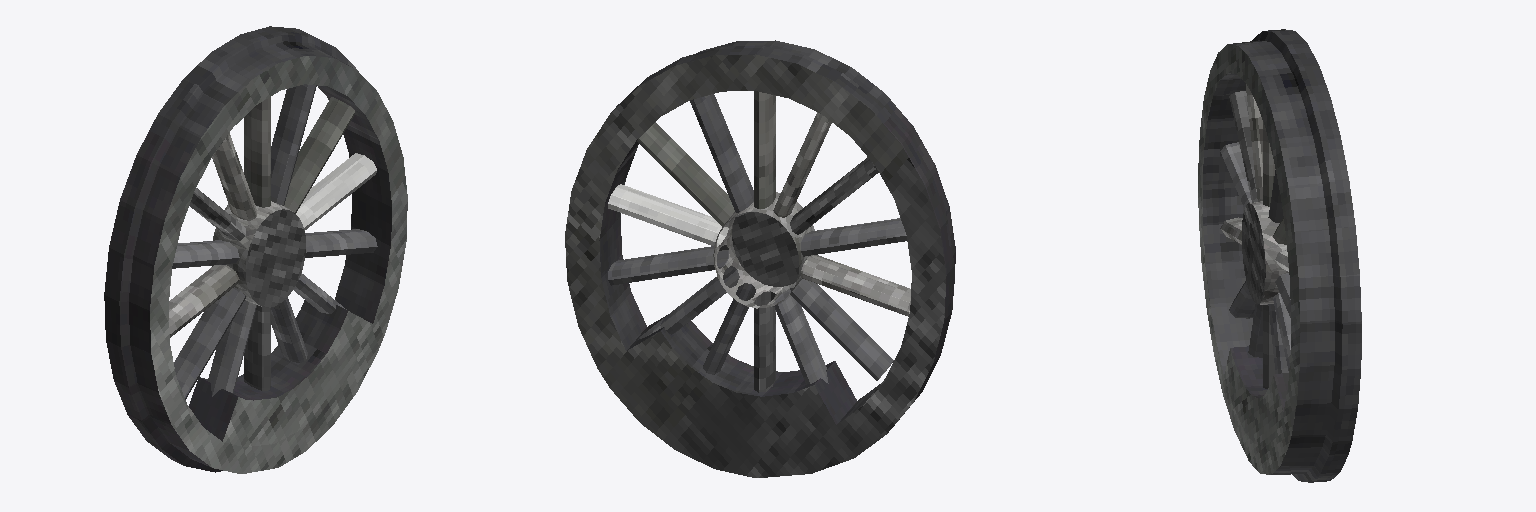
The picture shows the model from 3 angles: view 1: azimuth 30°, elevation 25°; view 2: azimuth 150°, elevation 25°; view 3: azimuth 270°, elevation 25°; orthographic projection.
Visible parts, largest first — view 1: LlantaDer2; view 2: LlantaDer2; view 3: LlantaDer2.
Boxes of the visible parts, <box> form: LlantaDer2: <box>104,26,407,473</box>; LlantaDer2: <box>565,40,955,477</box>; LlantaDer2: <box>1198,29,1361,482</box>.
Size of the model in its own units: 0.3182 by 0.3903 by 0.1368.
Materials: 1 (1 with a texture image).